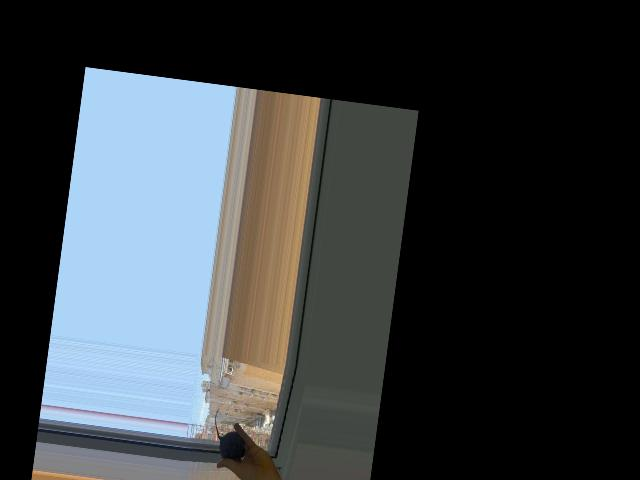beet: (209, 406, 250, 461)
